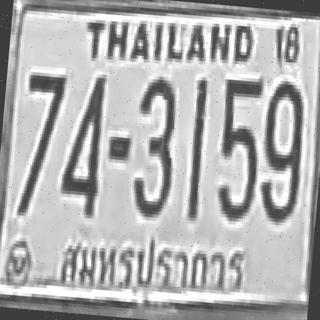N01: (184, 76, 207, 218)
N03: (130, 73, 178, 217)
N04: (58, 70, 106, 214)
N05: (212, 72, 263, 220)
N07: (16, 68, 66, 215)
N09: (257, 78, 306, 222)
P57: (54, 224, 248, 301)
